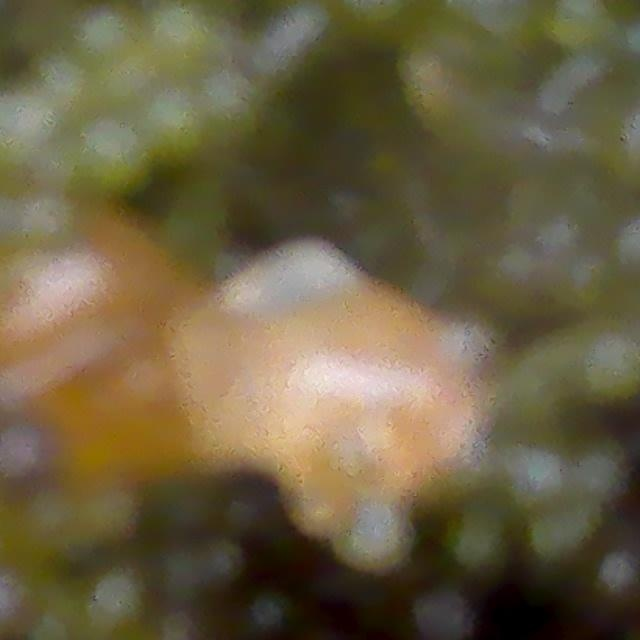SeaGrape: (83, 116, 151, 194), (147, 2, 221, 73), (68, 2, 133, 67), (148, 92, 213, 156), (0, 420, 54, 496), (92, 49, 153, 112), (583, 556, 640, 622), (0, 97, 53, 164), (28, 57, 91, 112), (410, 588, 476, 640)
